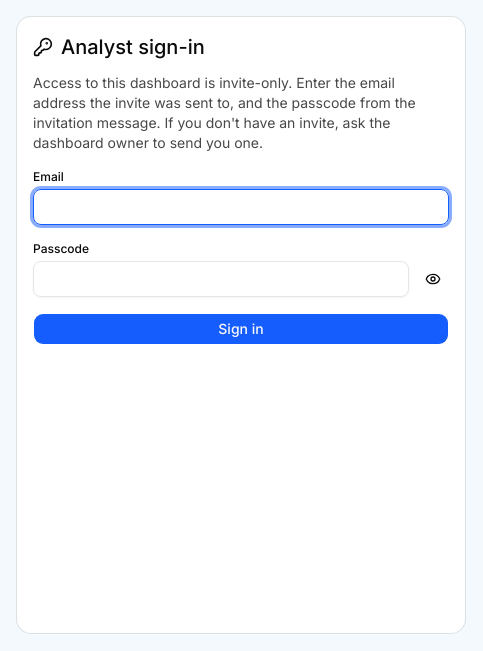
ShareLoginPage › shows ip whitelist message on 403
Type "jane@example.com" into the field labelled "Email".
click(241, 207); type("jane@example.com")  # box [33,189,449,225]
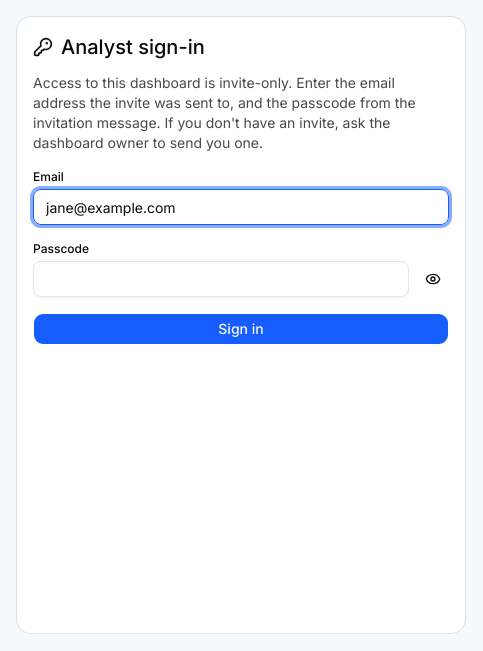
Type "x" into the password field labelled "Passcode".
click(221, 279); type("x")  # box [33,261,409,297]
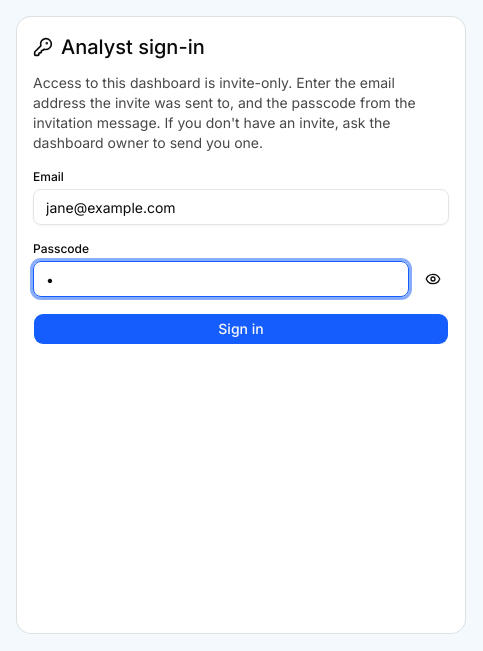
Click the button "Sign in".
click(241, 329)  # box [33,313,449,345]
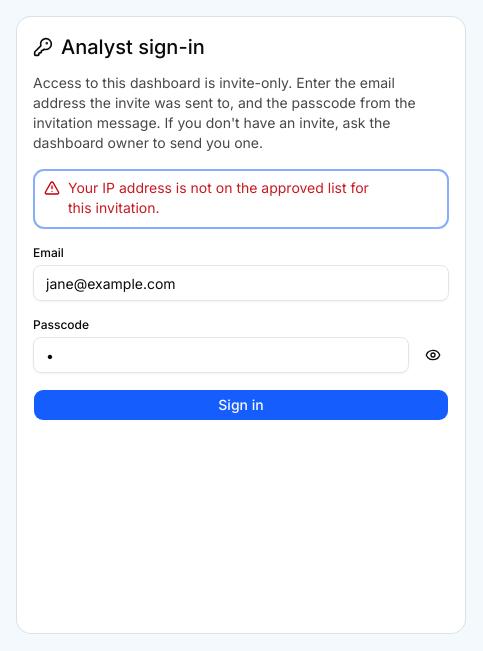
Result: the text "IP address is not on the approved list" is shown at [68,179,369,216]
